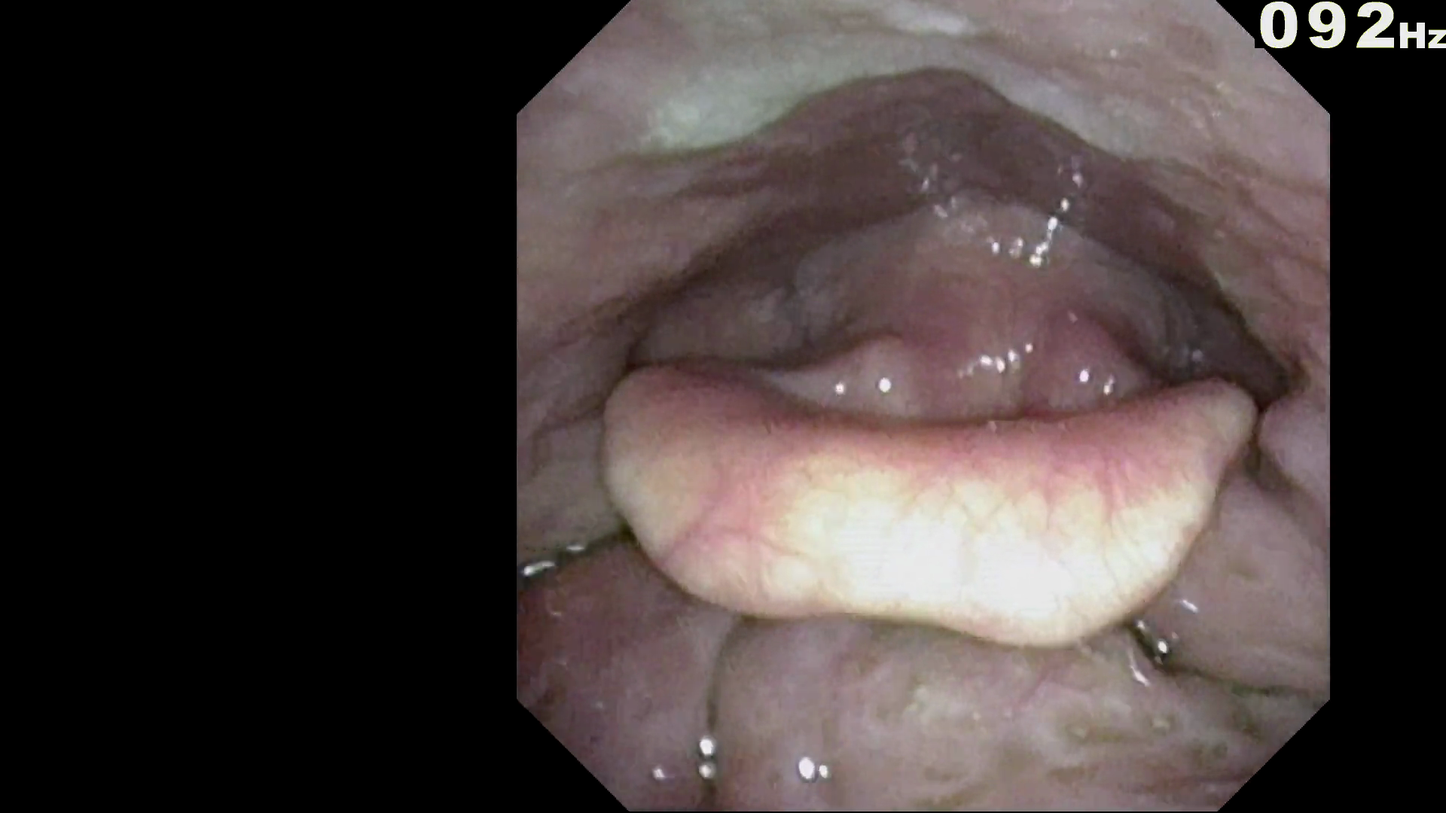epiglottis: (612, 365, 1224, 617)
